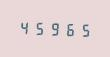five: (74, 20, 87, 38), (32, 19, 45, 36)
four: (18, 18, 31, 36)
nine: (46, 19, 59, 37)
six: (60, 20, 73, 37)
